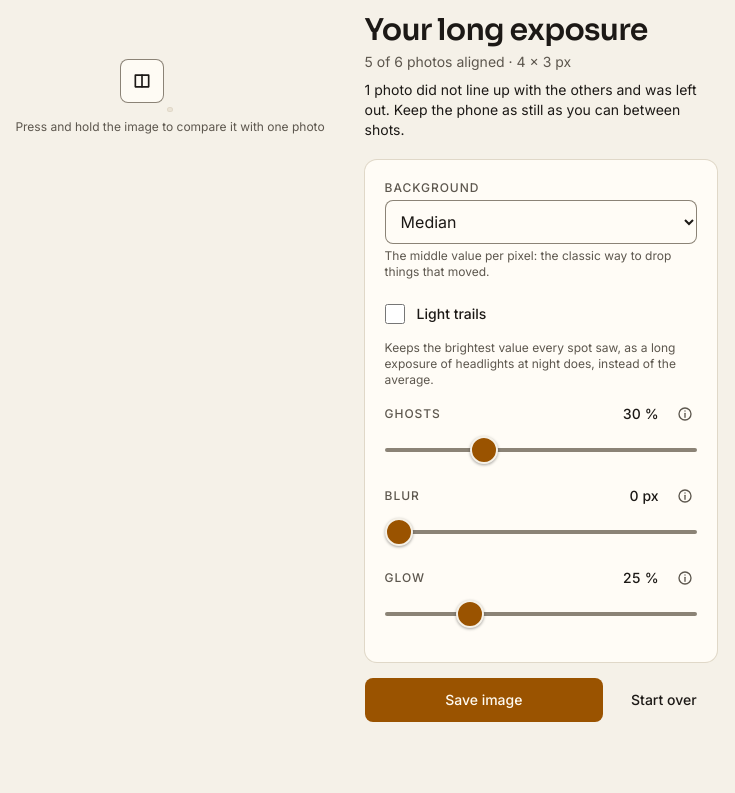
Result: save › reports a canvas the browser could not encode
The width and height of the screenshot is (735, 793).
What coordinates should you click on to do the following:
click the button with test id "download"
I would click on:
 (484, 700)
Its box is 365,678 -> 603,722.
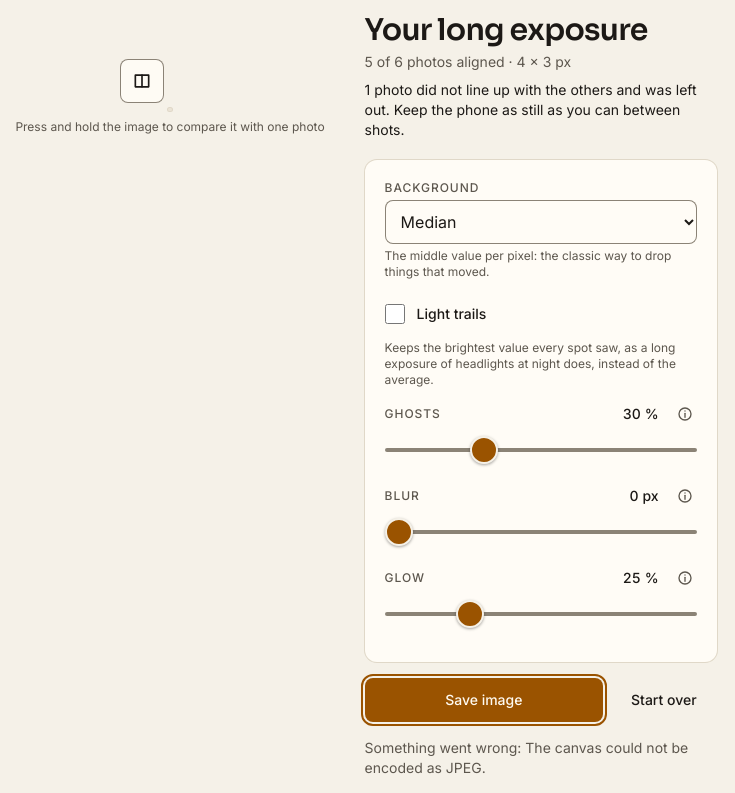
Check: the message with test id "export-status" reads "Something went wrong: The canvas could not be encoded as JPEG.", box 365,739 -> 688,776
